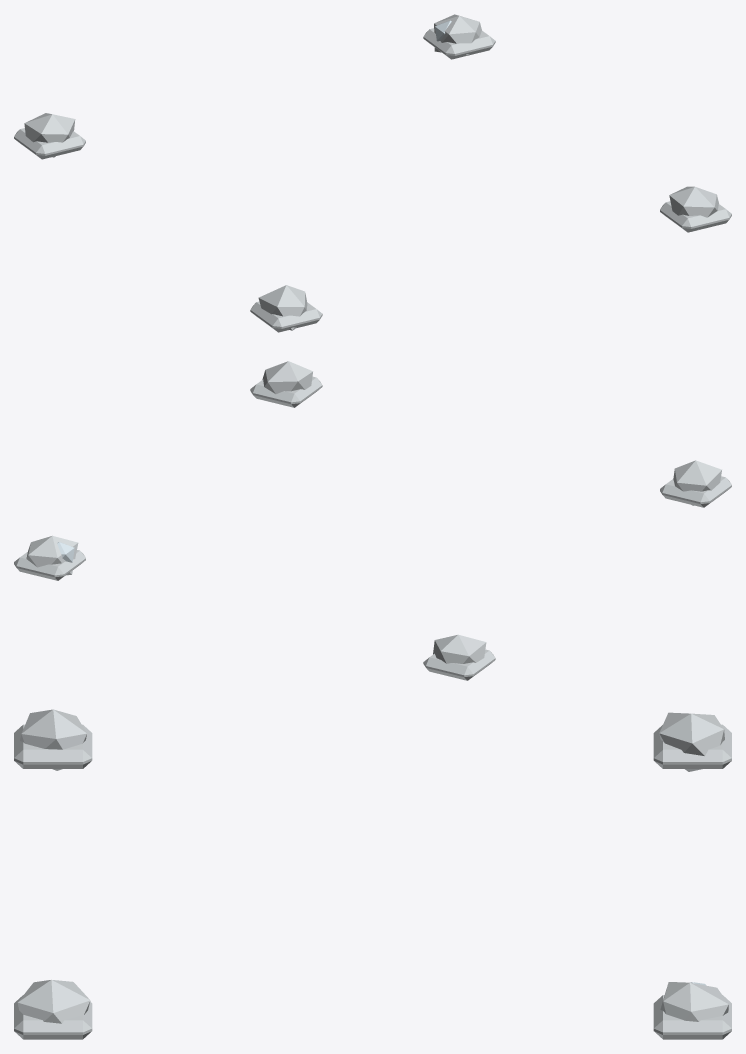
The model's file is snow_overlay_path_junction_x.glb.
The picture shows the model from 3 angles, top to bottom: view 1: azimuth 30°, elevation 25°; view 2: azimuth 150°, elevation 25°; view 3: azimuth 270°, elevation 25°; orthographic projection. The views are drawn at different scales.
Visible parts, largest first — view 1: snow_overlay_path_junction_x; view 2: snow_overlay_path_junction_x; view 3: snow_overlay_path_junction_x.
Part boxes in pixels (<box>): snow_overlay_path_junction_x: <box>14,14,731,332</box>; snow_overlay_path_junction_x: <box>14,361,731,680</box>; snow_overlay_path_junction_x: <box>14,709,731,1039</box>.
Bounding box in the file's own units: 2.02 × 0.19 × 2.02.
